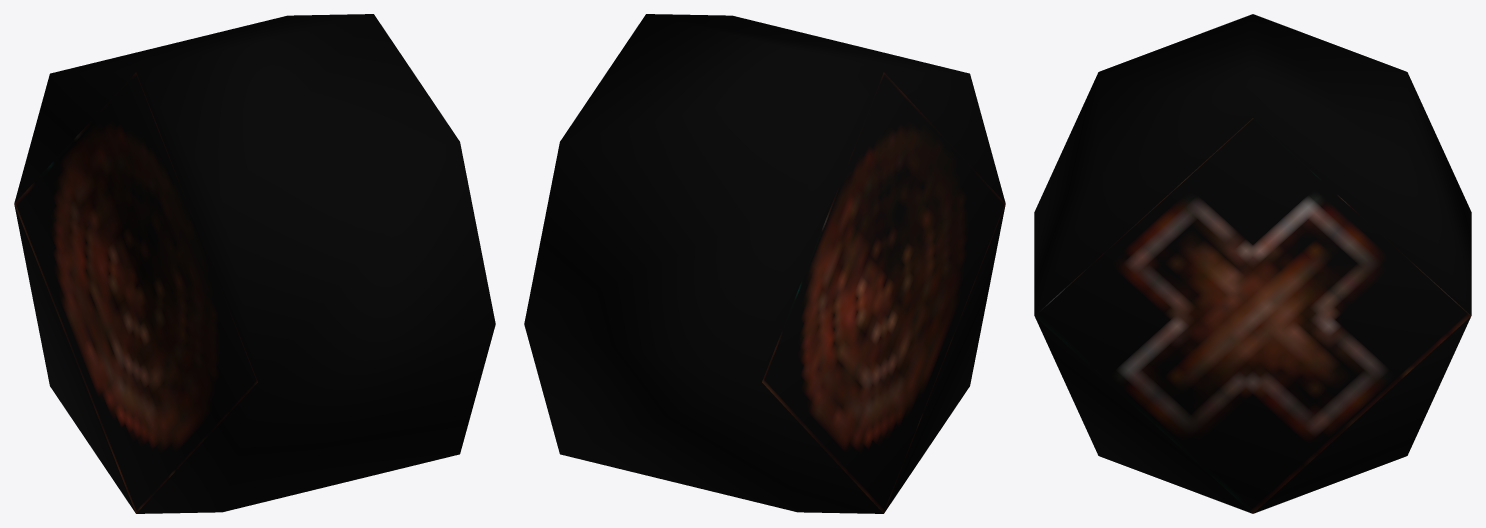
Rendered from WheelRearL.obj.
The picture shows the model from 3 angles, left to right: view 1: azimuth 30°, elevation 25°; view 2: azimuth 150°, elevation 25°; view 3: azimuth 270°, elevation 25°; orthographic projection. The views are drawn at different scales.
Visible parts, largest first — view 1: WheelRearL; view 2: WheelRearL; view 3: WheelRearL.
Boxes of the visible parts, <box> form: WheelRearL: <box>14,14,495,513</box>; WheelRearL: <box>524,14,1005,513</box>; WheelRearL: <box>1034,14,1471,513</box>.
Bounding box in the file's own units: 0.5522 × 0.981 × 0.981.
2 materials, 1 textured.
